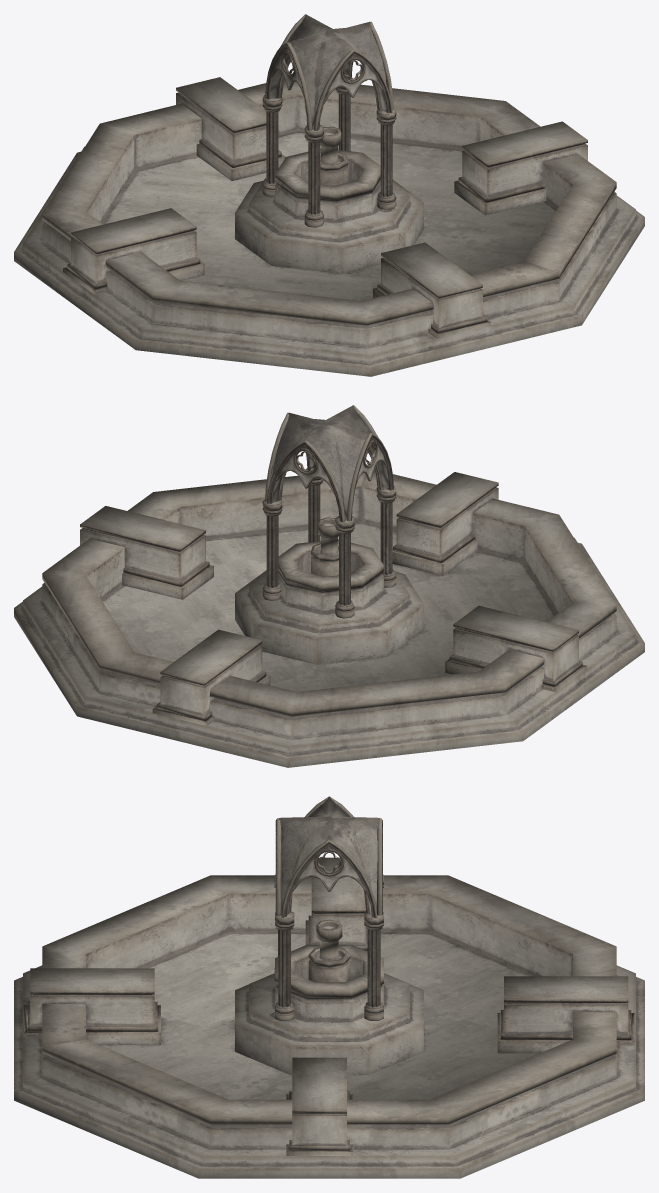
File: fonteFinal_low.fbx
3 views of the same model, one above another, from view 1: azimuth 30°, elevation 25°; view 2: azimuth 150°, elevation 25°; view 3: azimuth 270°, elevation 25° (orthographic). The views are drawn at different scales.
Parts seen in each view (by area): view 1: Fonte_low; view 2: Fonte_low; view 3: Fonte_low.
Boxes of the visible parts, x1,y1,x2,y2 form: Fonte_low: (14,14,644,376); Fonte_low: (14,405,644,767); Fonte_low: (14,796,644,1178).
Bounding box in the file's own units: 2237 × 890 × 2237.
